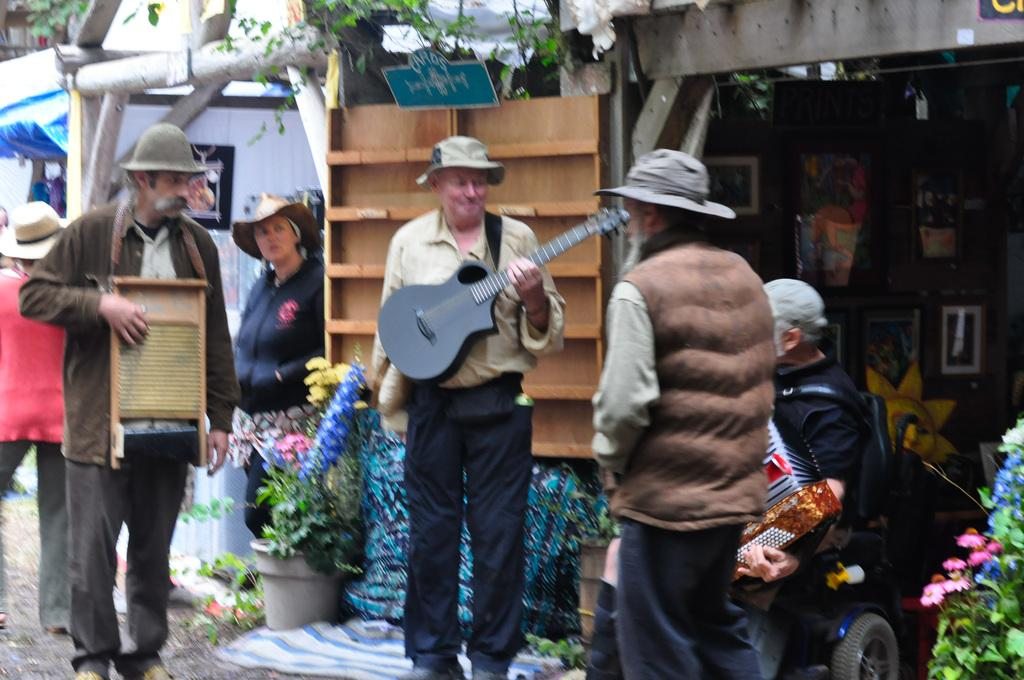Hat: (588, 146, 734, 218), (230, 192, 320, 262), (118, 122, 210, 175), (0, 198, 71, 260), (420, 134, 504, 185)
